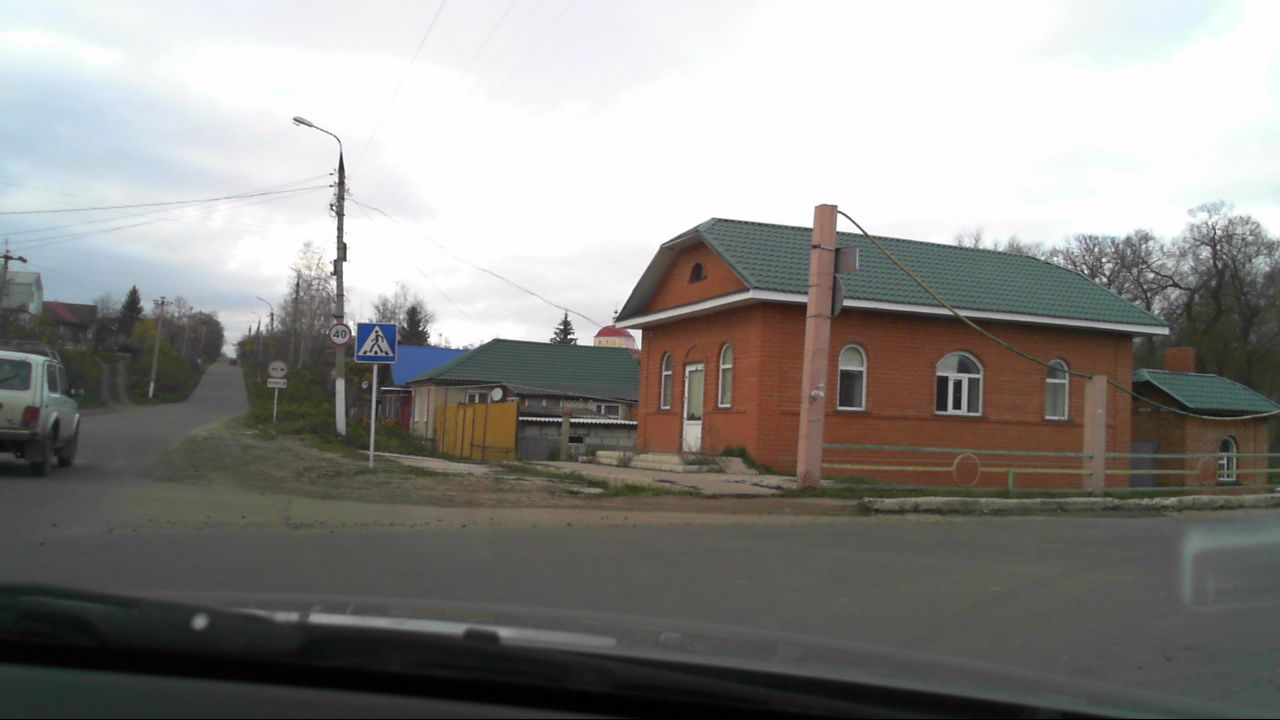speed_warning_40: (328, 322, 352, 345)
